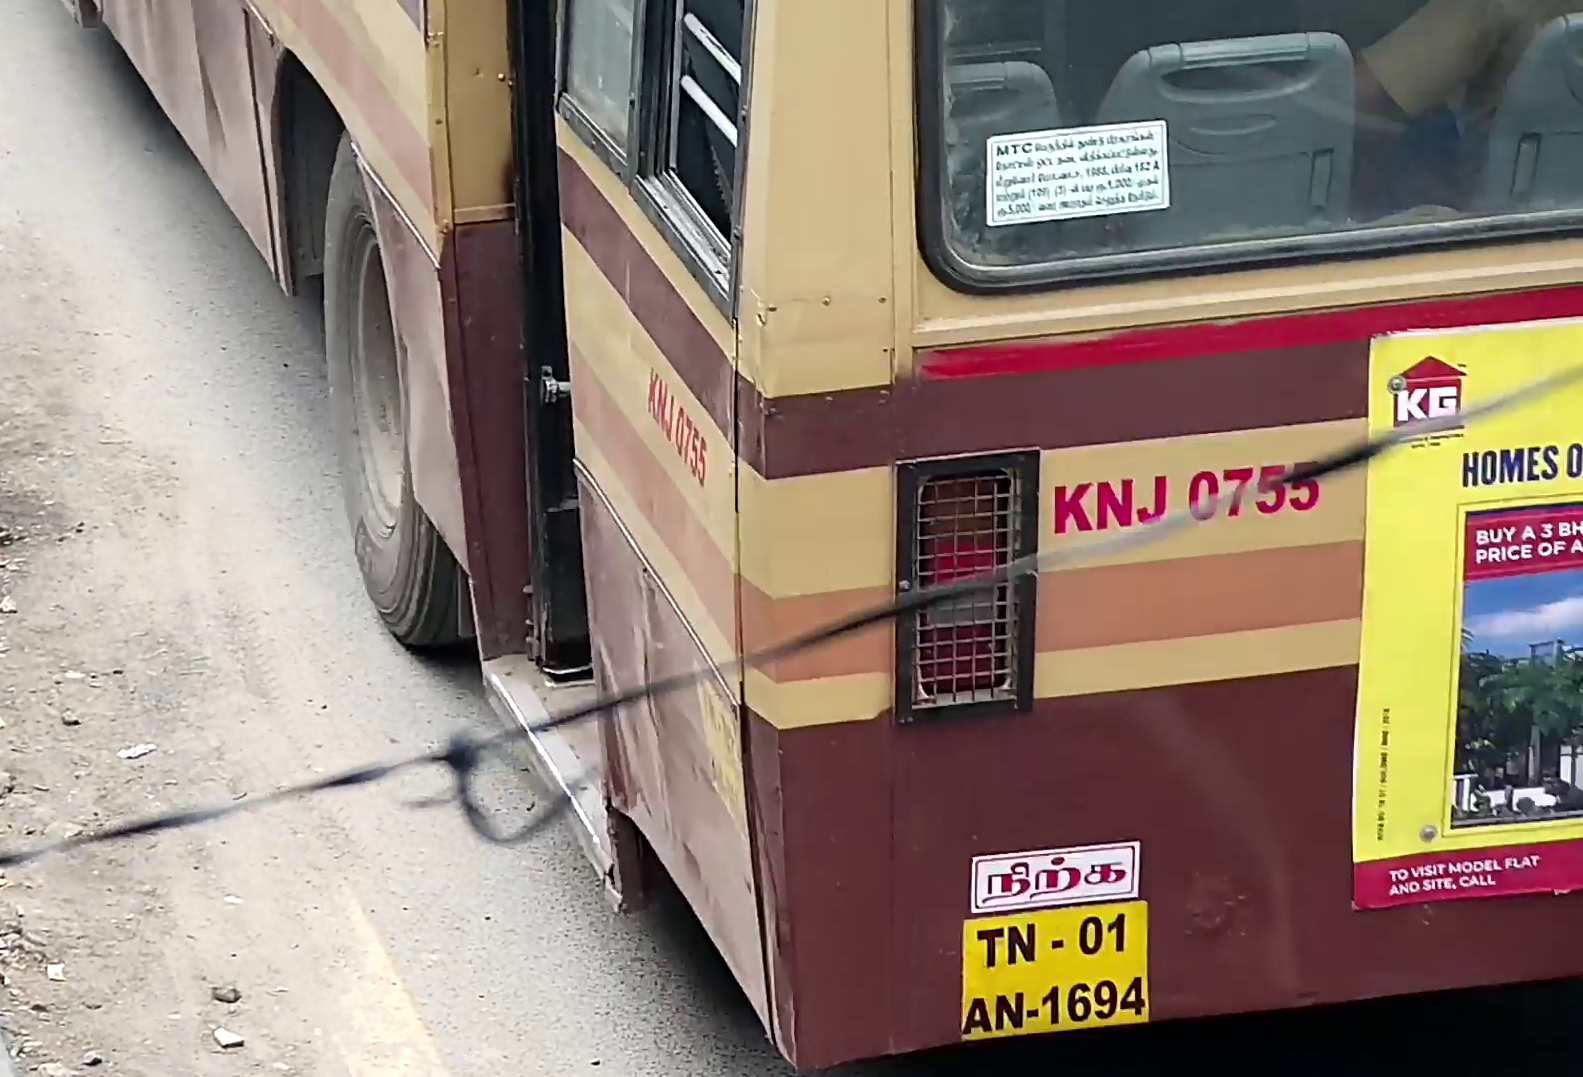-: (1050, 939, 1064, 950), (1026, 1008, 1039, 1018)
0: (1079, 916, 1103, 955)
1: (1104, 912, 1126, 953), (1041, 986, 1061, 1026)
4: (1119, 976, 1146, 1016)
6: (1066, 983, 1092, 1022)
9: (1093, 980, 1118, 1019)
A: (963, 997, 993, 1035)
N: (1005, 922, 1037, 966), (994, 991, 1024, 1031)
P10: (954, 899, 1154, 1043)
T: (976, 926, 1005, 968)
